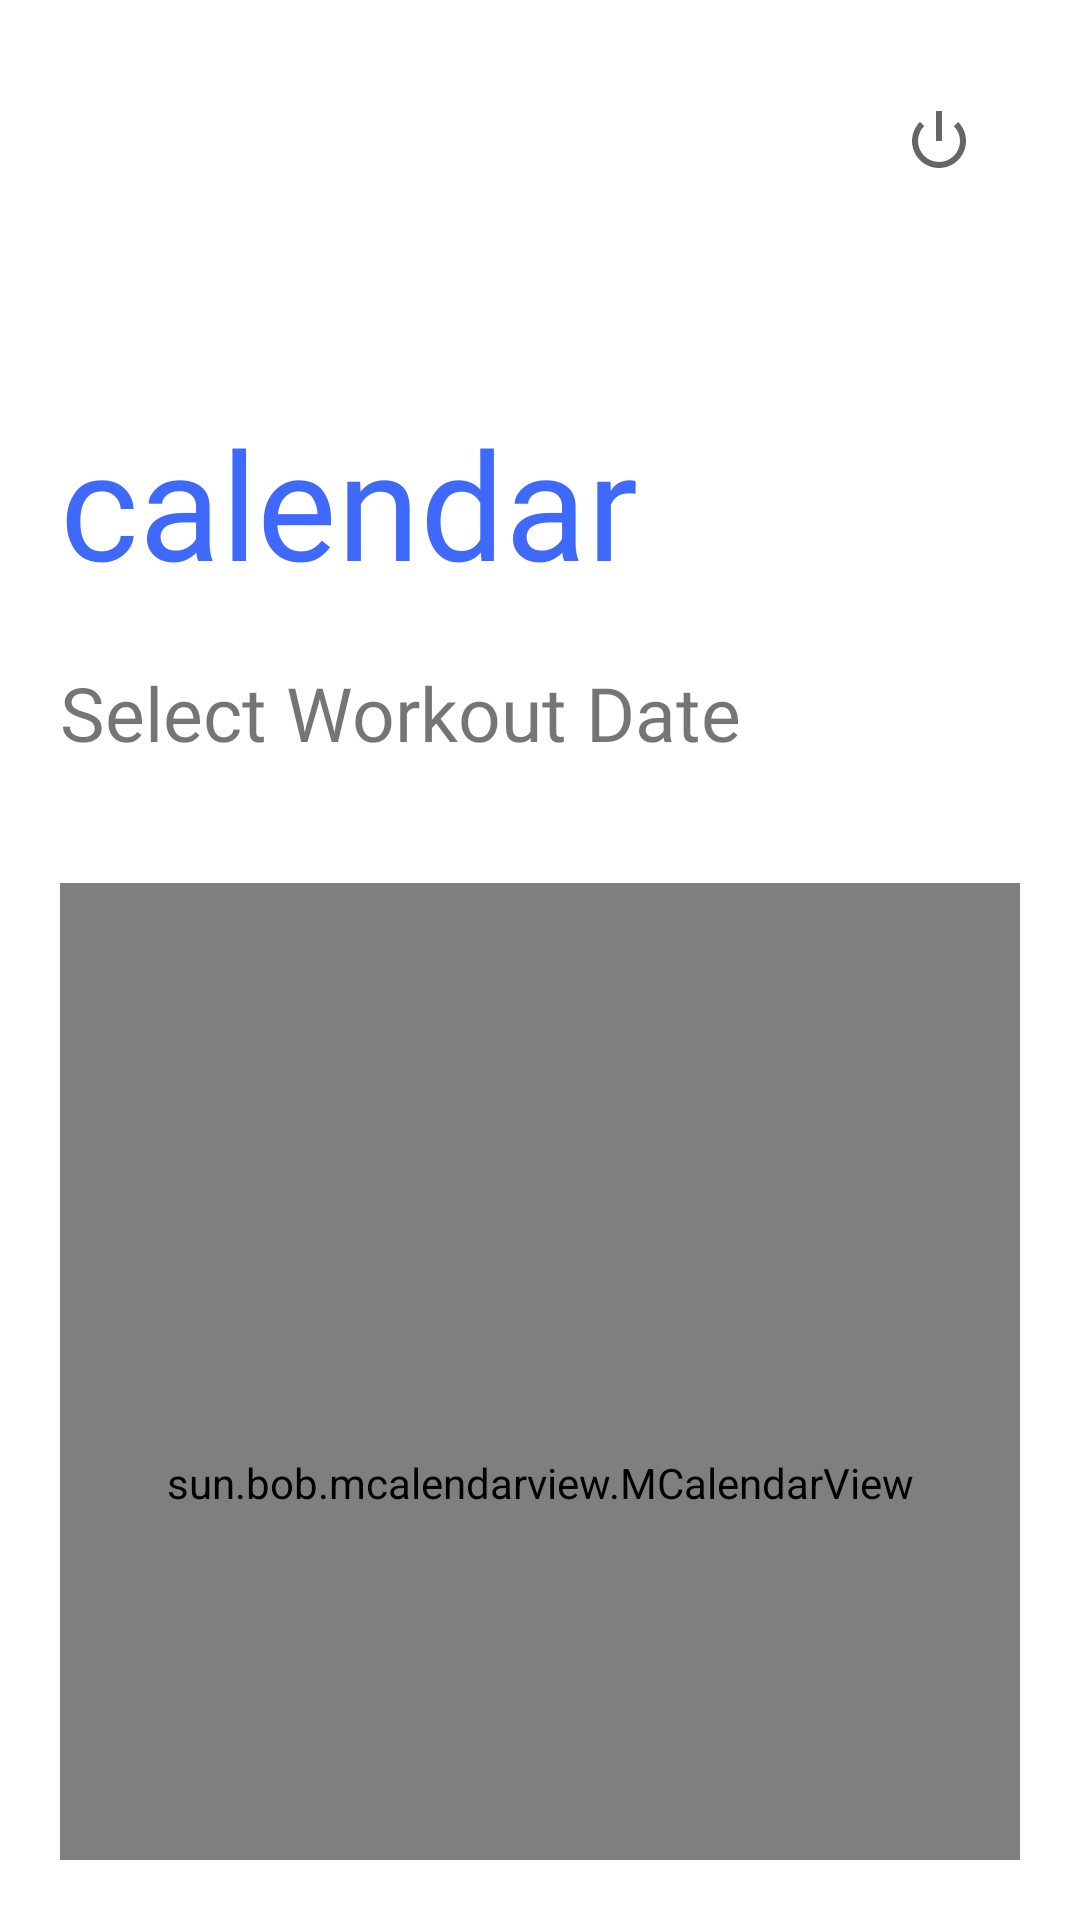

Screen size 1080px×1920px. Icon name, then its center in pixels as (x=x, y=y):
lock power off: (x=939, y=139)
